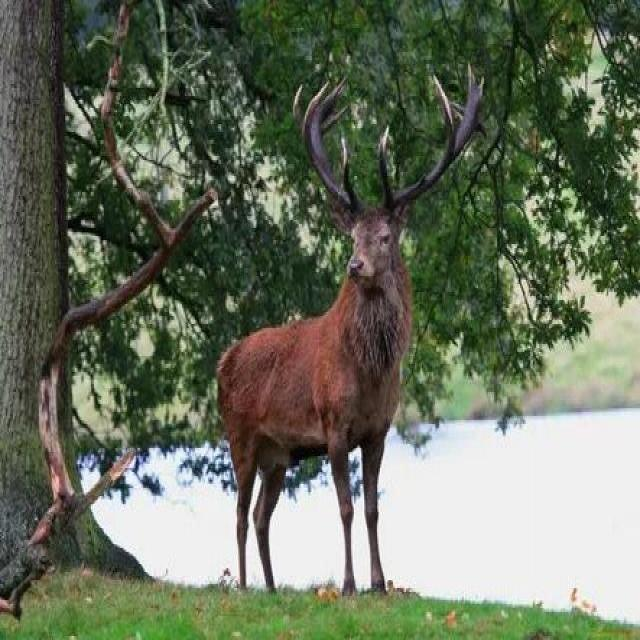deer: (190, 59, 468, 548)
